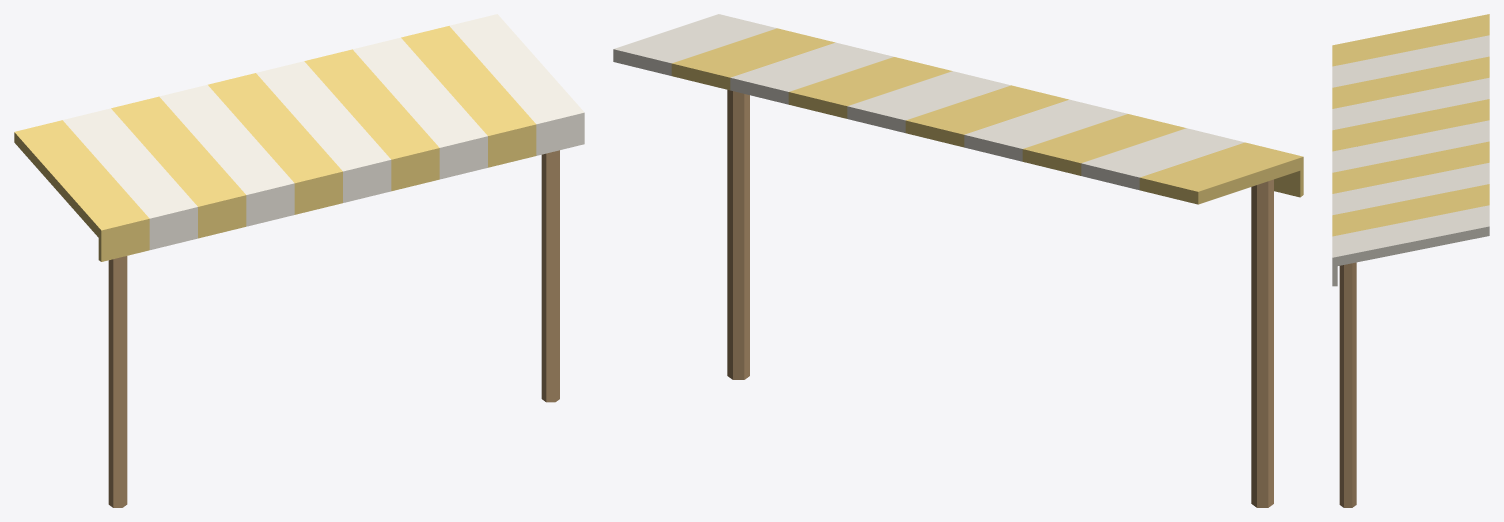
Rendered from awning_w4_8_lilac.glb.
3 renders of one model, left to right at view 1: azimuth 30°, elevation 25°; view 2: azimuth 150°, elevation 25°; view 3: azimuth 270°, elevation 25°, orthographic. The views are drawn at different scales.
Parts seen in each view (by area): view 1: Player; view 2: Player; view 3: Player.
Part boxes in pixels (left/top/right/bottom): Player: left=14, top=14, right=584, bottom=507; Player: left=613, top=14, right=1303, bottom=507; Player: left=1332, top=14, right=1489, bottom=507.
Bounding box in the file's own units: 4.8 × 3.05 × 1.5.
